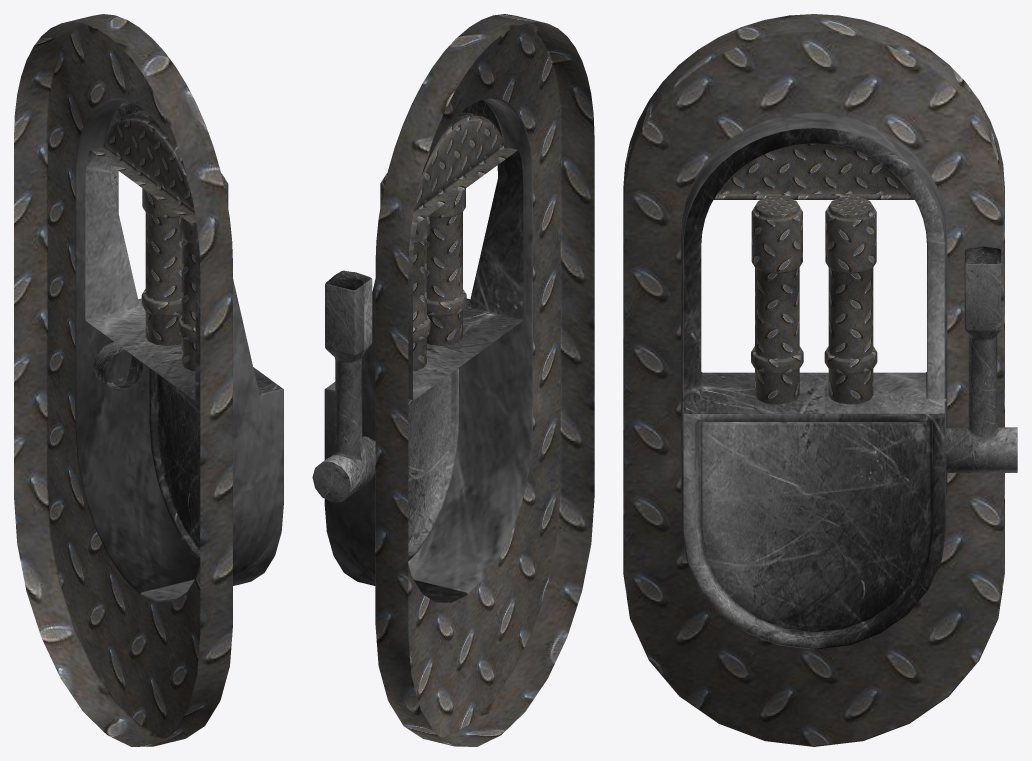
File: LEVER.fbx
3 renders of one model, left to right at view 1: azimuth 30°, elevation 25°; view 2: azimuth 150°, elevation 25°; view 3: azimuth 270°, elevation 25°, orthographic. The views are drawn at different scales.
Parts seen in each view (by area): view 1: Circle, Cylinder, Cylinder.001; view 2: Circle, Cylinder.001, Cylinder; view 3: Circle, Cylinder, Cylinder.001.
Part boxes in pixels (bbox=[...]): Circle: bbox=[14, 14, 283, 746]; Cylinder: bbox=[141, 173, 228, 394]; Cylinder.001: bbox=[93, 165, 143, 390]; Circle: bbox=[324, 14, 594, 746]; Cylinder.001: bbox=[312, 270, 375, 502]; Cylinder: bbox=[380, 173, 466, 394]; Circle: bbox=[623, 14, 1004, 746]; Cylinder: bbox=[751, 196, 877, 404]; Cylinder.001: bbox=[946, 246, 1017, 472].
Size of the model in its own units: 101 by 599 by 298.
2 materials, 2 textured.
